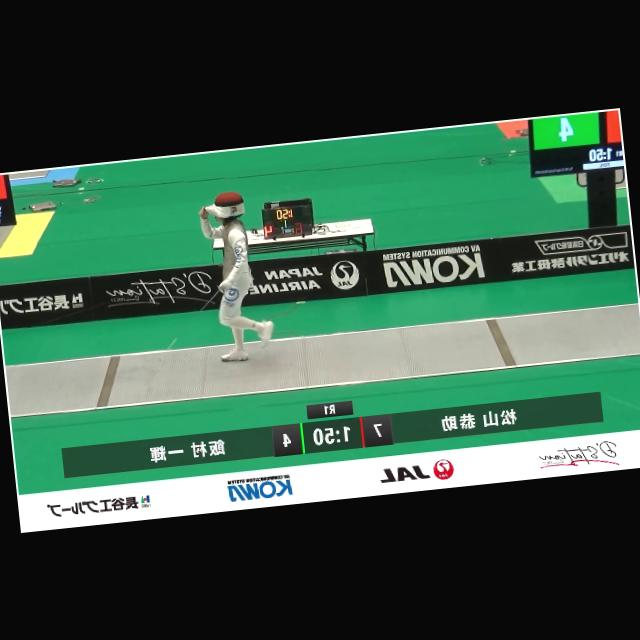blade: (149, 280, 234, 361)
